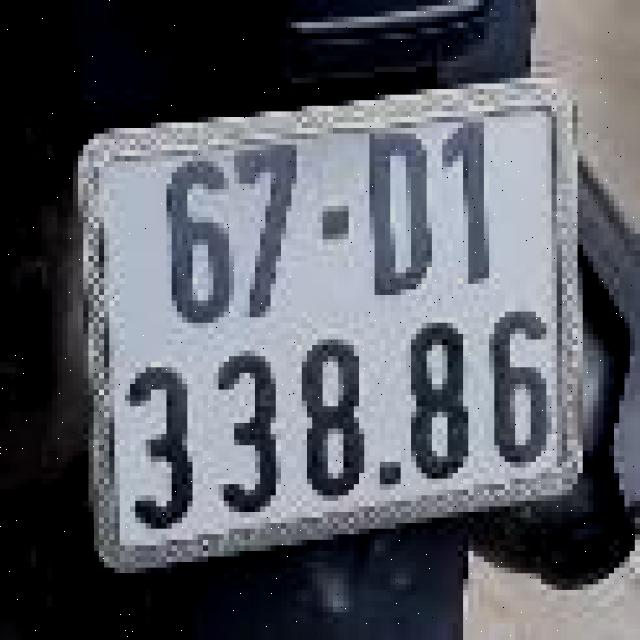1: (440, 114, 507, 292)
3: (120, 359, 203, 531), (211, 348, 289, 515)
6: (482, 304, 560, 471), (158, 159, 232, 320)
7: (227, 142, 304, 325)
8: (398, 314, 481, 482), (296, 334, 374, 506)
D: (362, 114, 434, 309)
